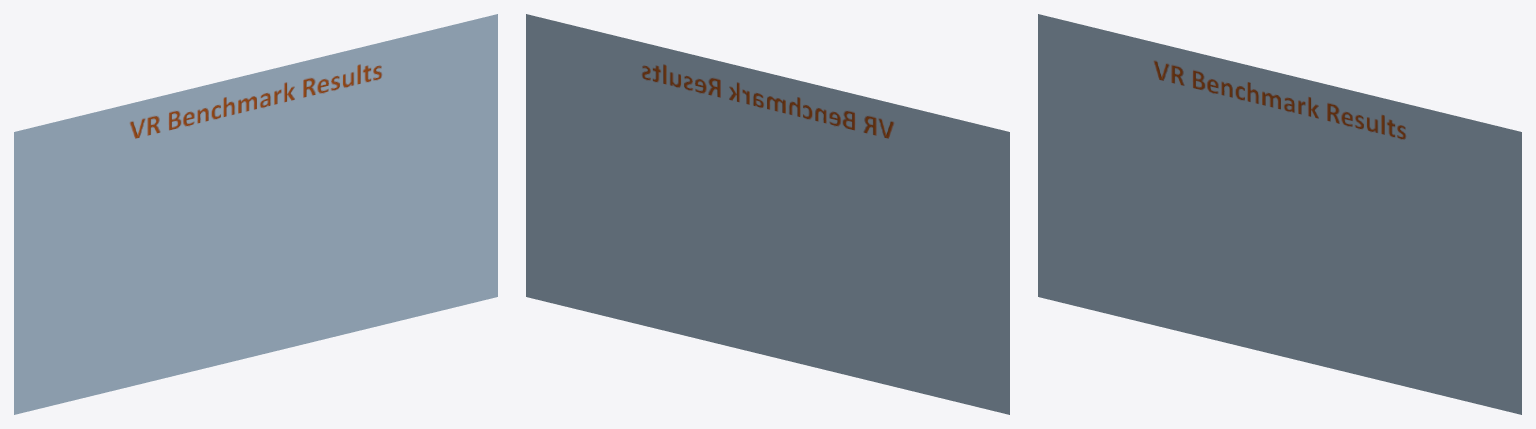
File: results.FBX
3 views of the same model, side by side, from view 1: azimuth 30°, elevation 25°; view 2: azimuth 150°, elevation 25°; view 3: azimuth 330°, elevation 25° (orthographic).
Visible parts, largest first — view 1: Background; view 2: Background; view 3: Background.
Part boxes in pixels (x1,y1,x2,y2): Background: (14, 14, 497, 414); Background: (526, 14, 1009, 414); Background: (1038, 14, 1521, 414).
Size of the model in its own units: 1595 by 892 by 0.000145.
1 material, 1 textured.
